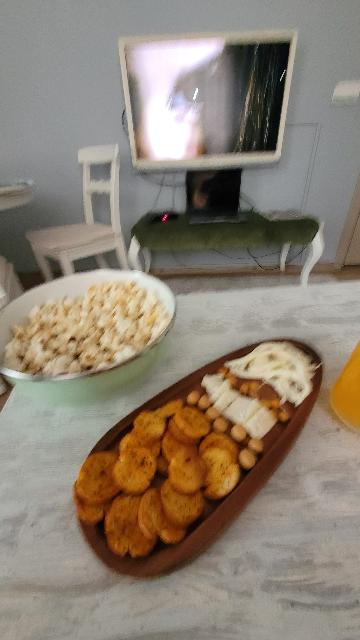Organik: (77, 415, 242, 554), (16, 285, 160, 378), (211, 333, 322, 437)
